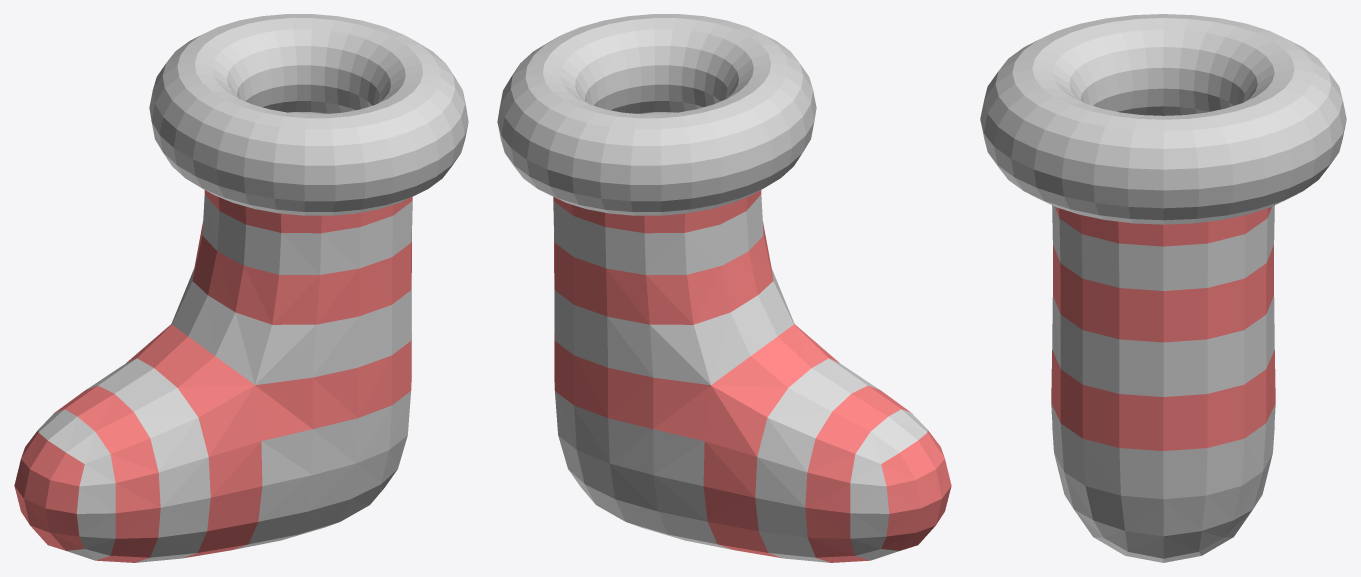
File: gift_2.gltf
The picture shows the model from 3 angles, left to right: view 1: azimuth 30°, elevation 25°; view 2: azimuth 150°, elevation 25°; view 3: azimuth 270°, elevation 25°; orthographic projection. The views are drawn at different scales.
Parts seen in each view (by area): view 1: 袜子-车上面, 袜子-材质.1; view 2: 袜子-车上面, 袜子-材质.1; view 3: 袜子-车上面, 袜子-材质.1.
Boxes of the visible parts, x1,y1,x2,y2 form: 袜子-车上面: (38,14,468,562); 袜子-材质.1: (14,190,412,562); 袜子-车上面: (497,14,927,562); 袜子-材质.1: (553,190,951,562); 袜子-车上面: (980,14,1346,562); 袜子-材质.1: (1051,207,1275,450).
Size of the model in its own units: 60.6 by 62.27 by 42.41.
